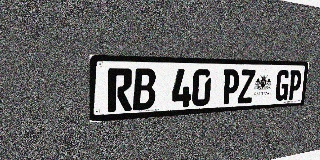0: (191, 69, 212, 107)
4: (171, 69, 193, 108)
B: (133, 68, 156, 110)
G: (274, 70, 290, 101)
P: (221, 69, 240, 105), (287, 70, 302, 100)
R: (108, 68, 133, 112)
Z: (237, 69, 255, 104)
